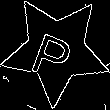P_N: (31, 20, 81, 80)
